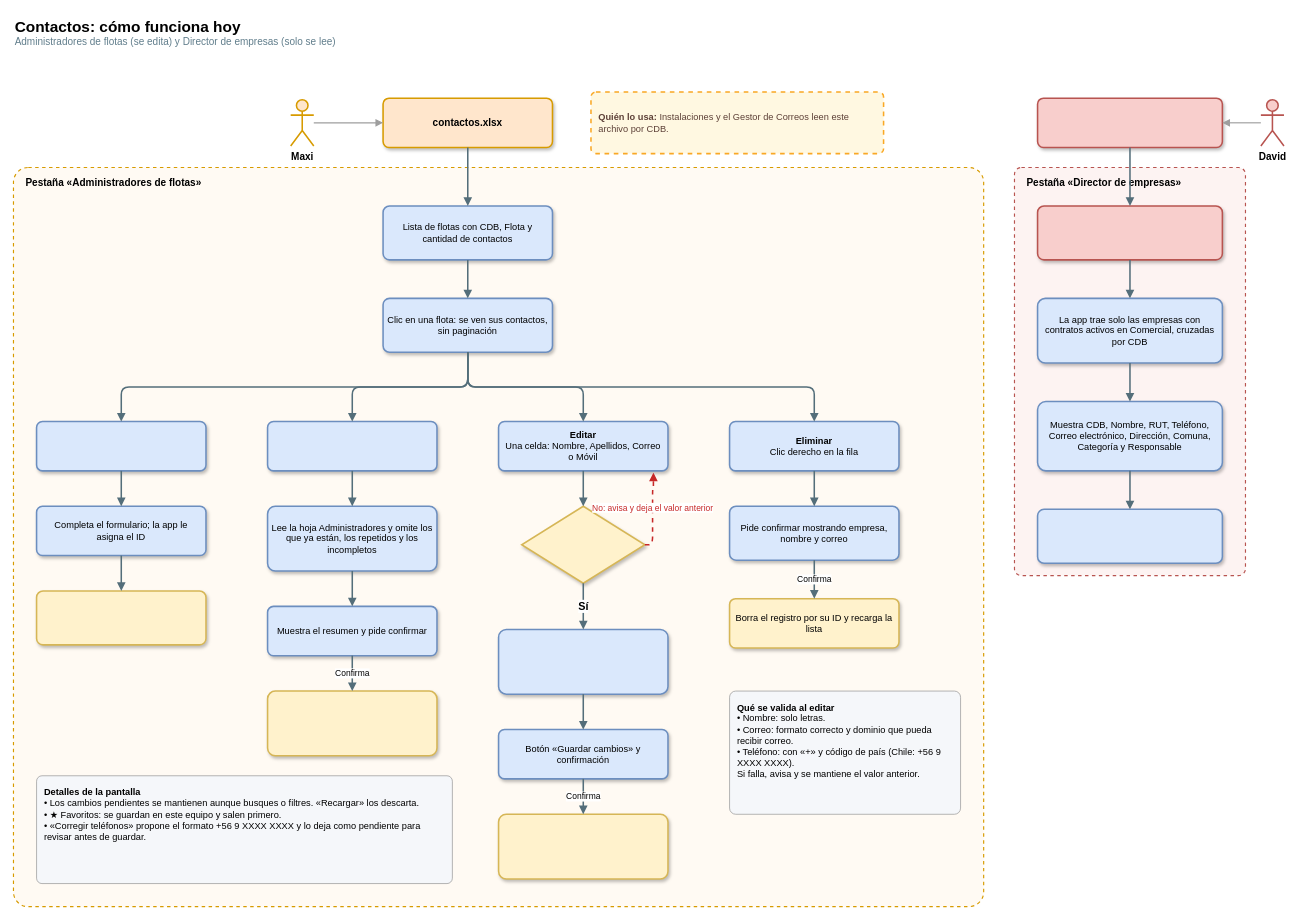
Image size: 1300x920. Some labels were removed from this diagram. The centre of each missing label's shape, as x and y in pixels:
"Agrega los nuevos a contactos.xlsx; los con datos por corregir quedan en rojo" goes at point (352, 724).
"Agregar Botón «Agregar nuevo contacto»" goes at point (121, 447).
"BBDD CLIENTES CM.xlsx" goes at point (1130, 123).
"Escribe en contactos.xlsx por ID y fecha de extracción, y limpia los pendientes" goes at point (583, 847).
"Importar Excel del bot de Volvo Connect" goes at point (352, 447).
"Queda como cambio pendiente: celda naranja, visible solo en esta pantalla" goes at point (583, 662).
"Se guarda de inmediato en contactos.xlsx y se recarga la lista" goes at point (121, 619).
"Se puede buscar, filtrar por empresa, ordenar y exportar a Excel" goes at point (1130, 537).
"Solo lectura: no se agrega, edita ni elimina" goes at point (1130, 234).
"¿El dato es válido?" goes at point (583, 545).
